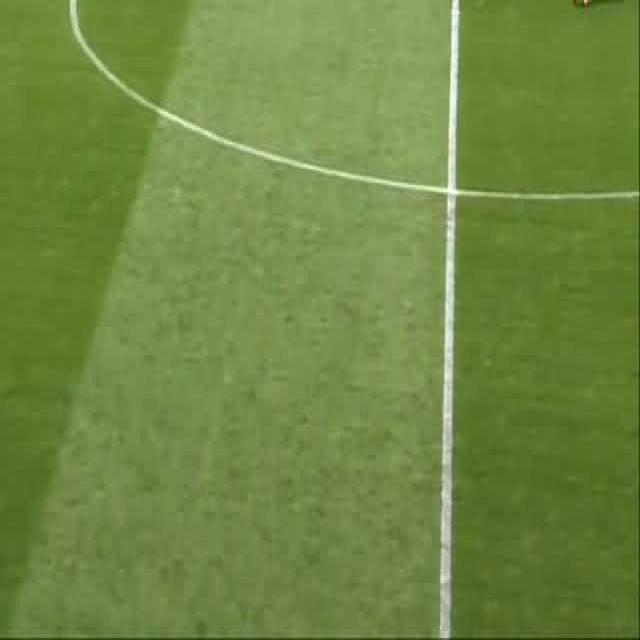player-white: (568, 0, 599, 6)
